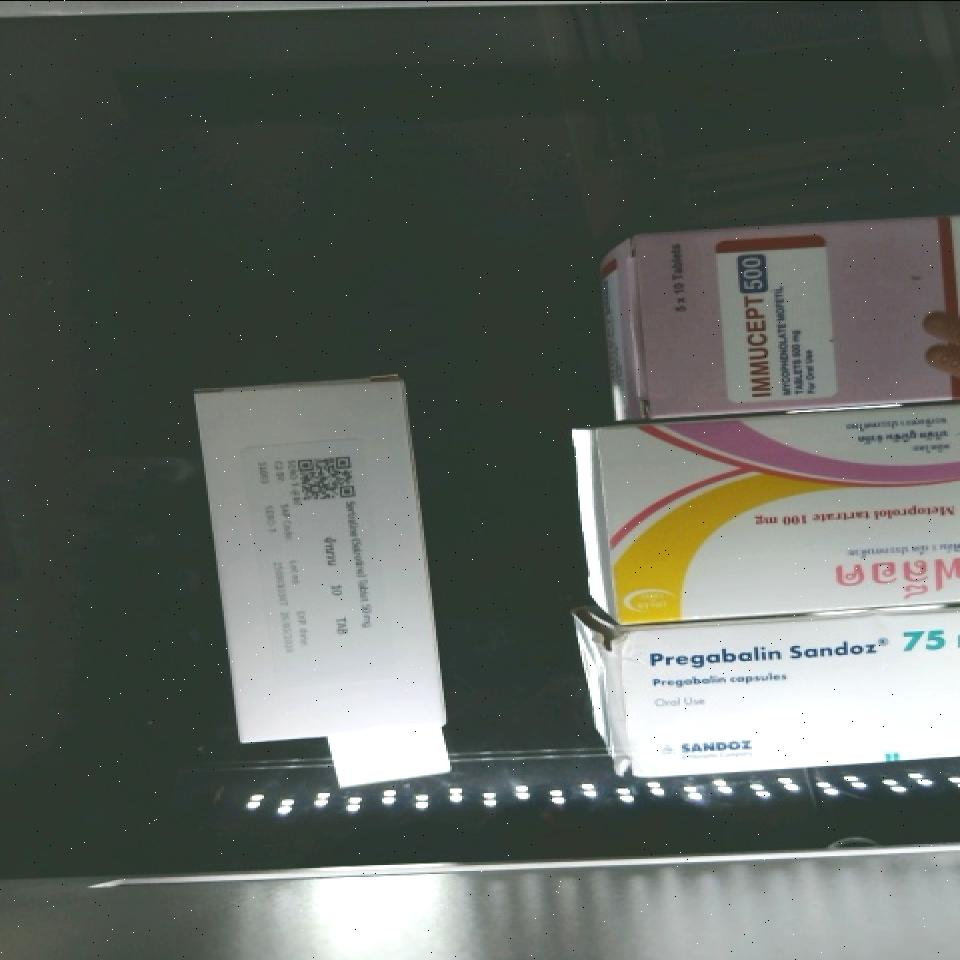medicine_box: (190, 365, 447, 743), (596, 399, 960, 617), (617, 215, 960, 413), (602, 608, 960, 776)
medicine_label_obb: (624, 612, 956, 685), (721, 241, 784, 403), (817, 536, 957, 604)
qr_code: (274, 431, 377, 519)
